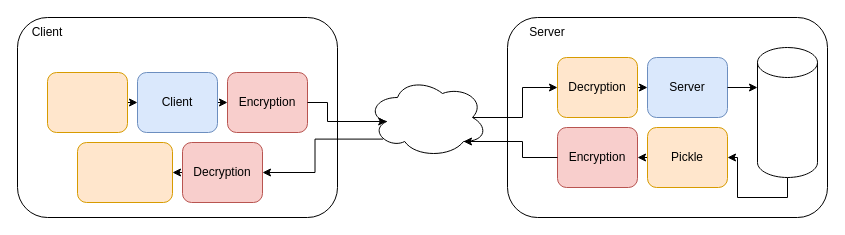
This 845x235 diagram has some shape labels left out. Here are the shapes that lost their labels. From the top down, the centre of each, then its label:
the point at 87,102: GUI
the point at 427,117: Network
the point at 787,112: Get Browsing History and blocked sites
the point at 124,172: Show WebBlocker screen with data
